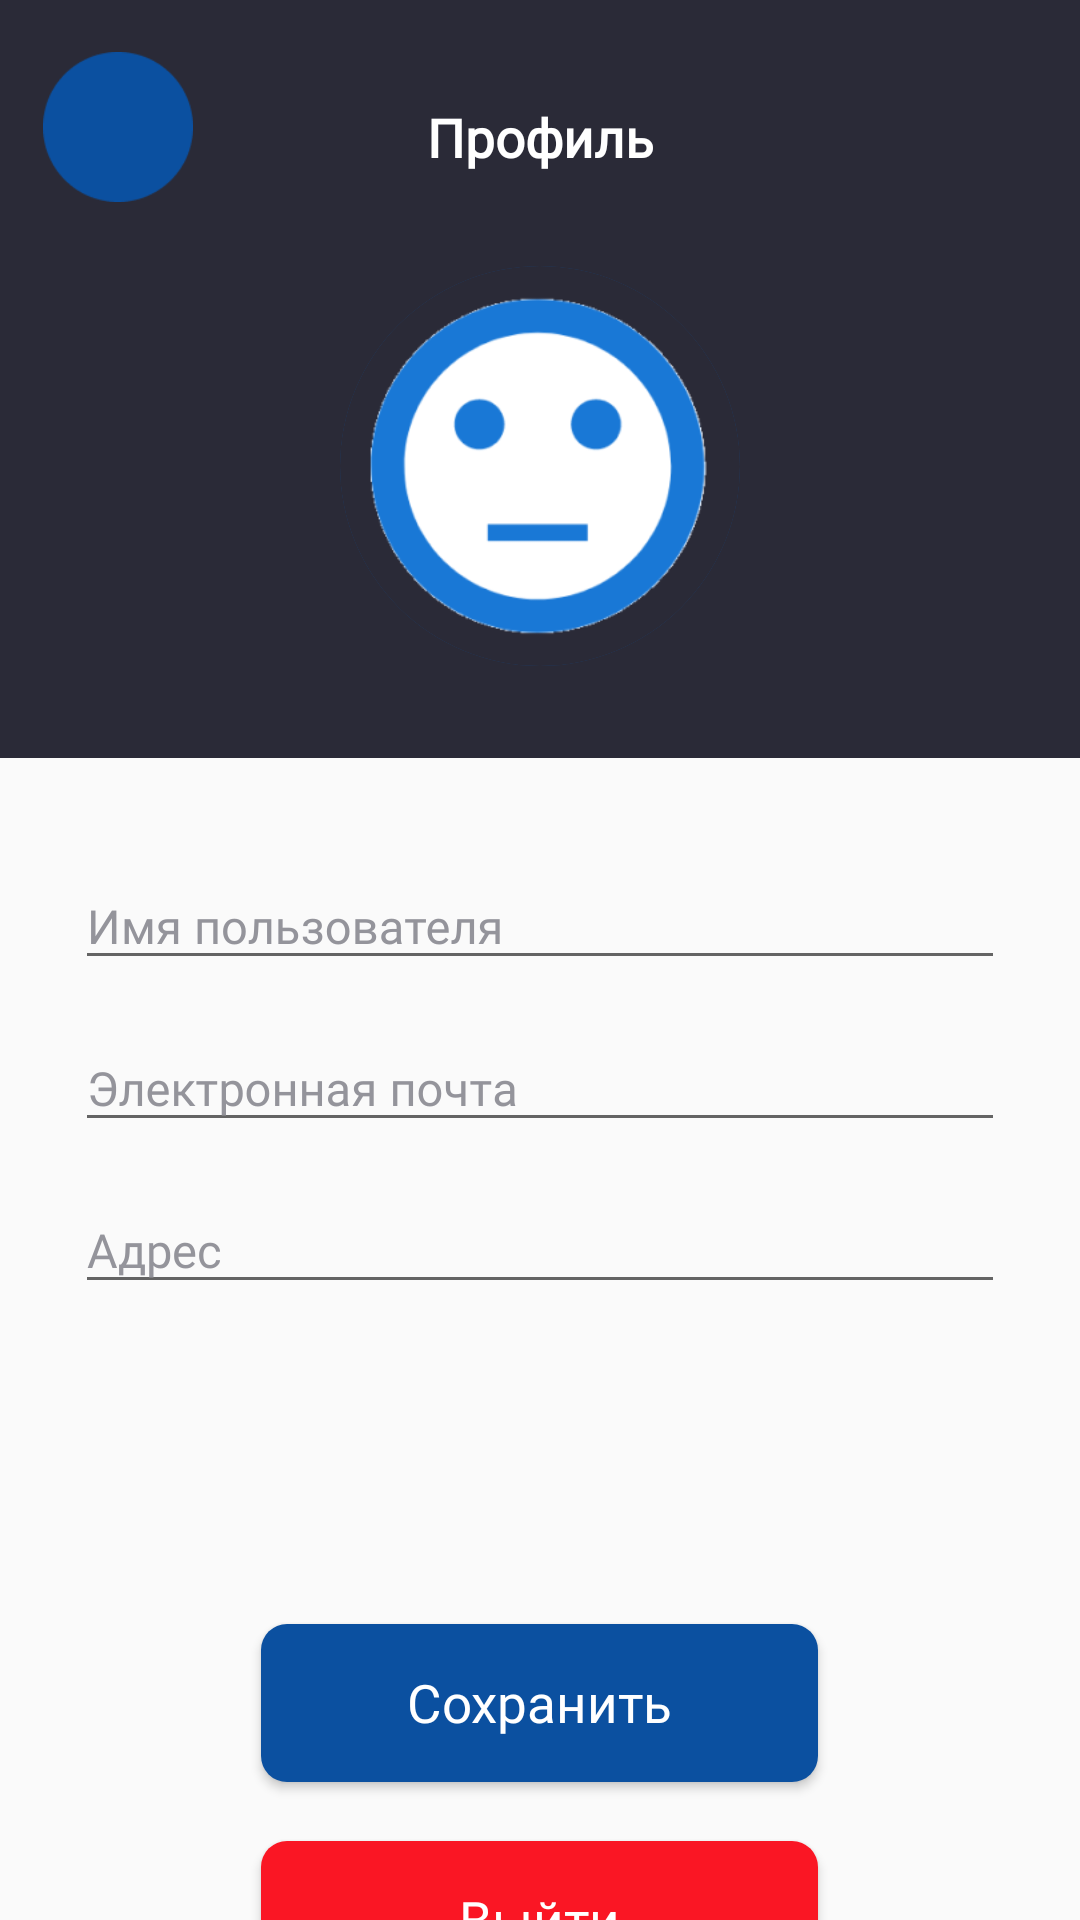

Where to tap for icons on this 1080×1920 app screen, as (x,y):
profile: (538,466)
